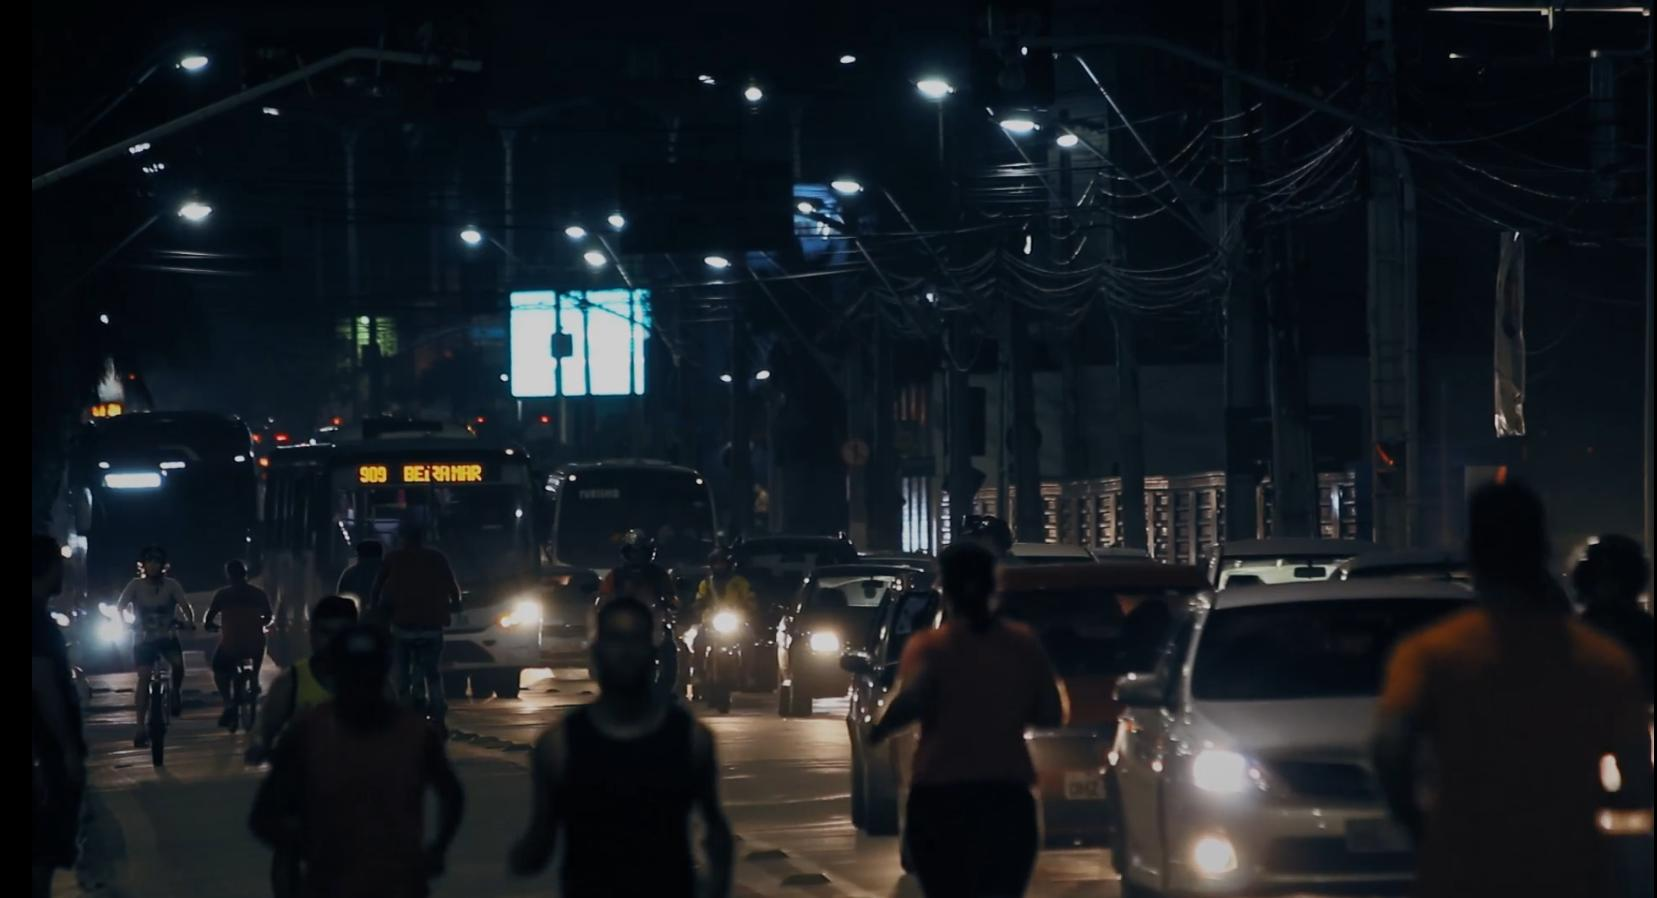bus: (68, 382, 289, 655)
cyclist: (116, 530, 223, 780), (212, 534, 276, 764)
motorcycle: (696, 540, 775, 716)
